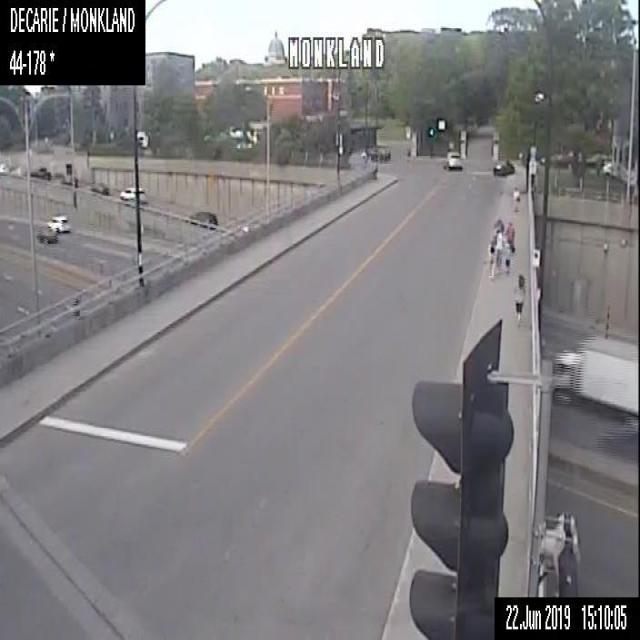pedestrian: (486, 225, 501, 278), (512, 271, 524, 325), (505, 222, 515, 254), (502, 241, 510, 273), (510, 184, 519, 212), (494, 217, 504, 242), (360, 148, 368, 168)
vehicle: (552, 333, 639, 419), (117, 184, 146, 205), (187, 206, 218, 222), (34, 225, 58, 243), (47, 214, 71, 232), (492, 159, 516, 176), (366, 145, 390, 160), (442, 150, 460, 169), (85, 180, 106, 193), (32, 165, 50, 180), (62, 175, 77, 185), (0, 161, 7, 171)
